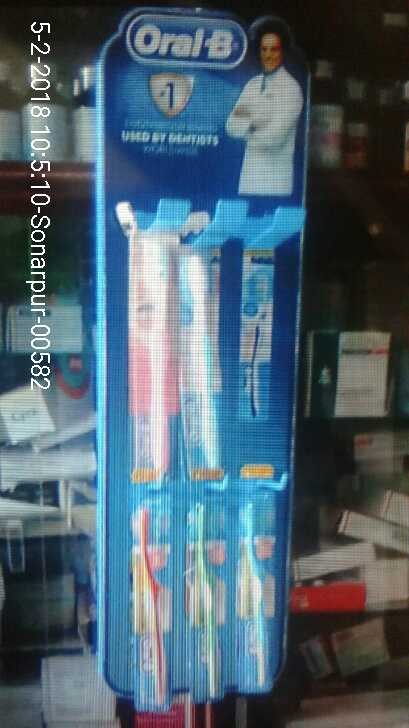oralb: (177, 218, 224, 482), (130, 222, 176, 491), (131, 490, 182, 716), (183, 490, 229, 700), (235, 483, 277, 698)
